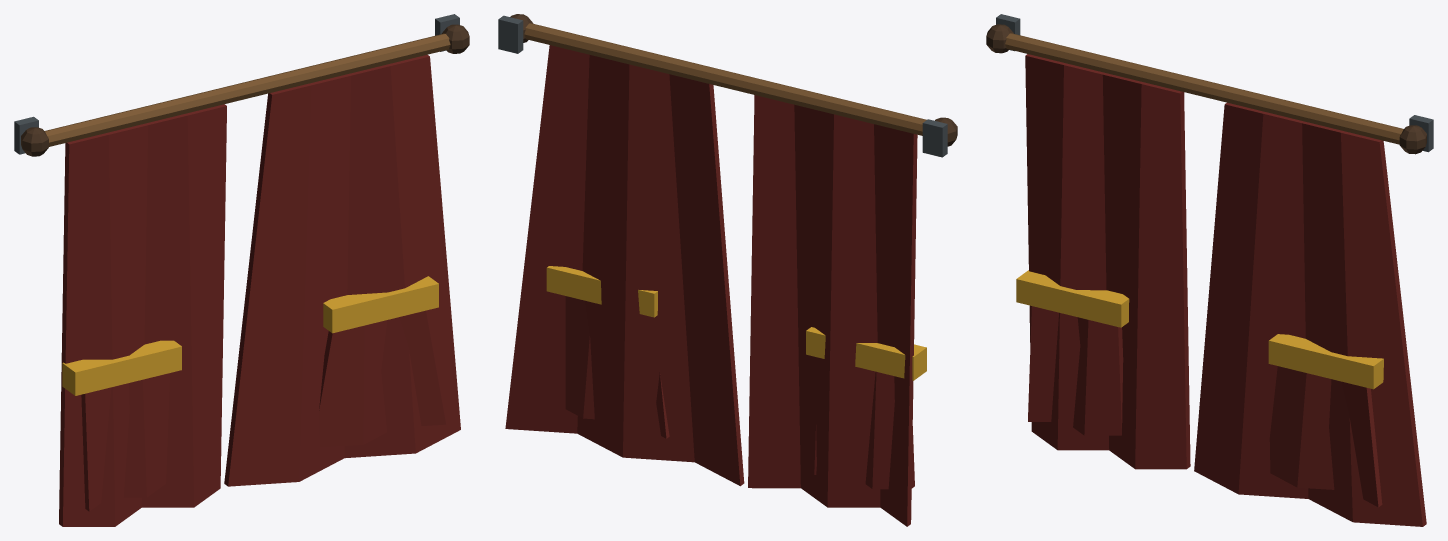
File: mdvl_interiors_curtain_01.glb
The picture shows the model from 3 angles, left to right: view 1: azimuth 30°, elevation 25°; view 2: azimuth 150°, elevation 25°; view 3: azimuth 330°, elevation 25°; orthographic projection. The views are drawn at different scales.
Visible parts, largest first — view 1: mdvl_interiors_curtain_01; view 2: mdvl_interiors_curtain_01; view 3: mdvl_interiors_curtain_01.
Part boxes in pixels (box(x1,y1,x2,y2)): mdvl_interiors_curtain_01: box(14, 14, 469, 526); mdvl_interiors_curtain_01: box(498, 14, 957, 526); mdvl_interiors_curtain_01: box(986, 14, 1433, 526).
Size of the model in its own units: 1.19 by 1.04 by 0.11.
Materials: 1 (1 with a texture image).
